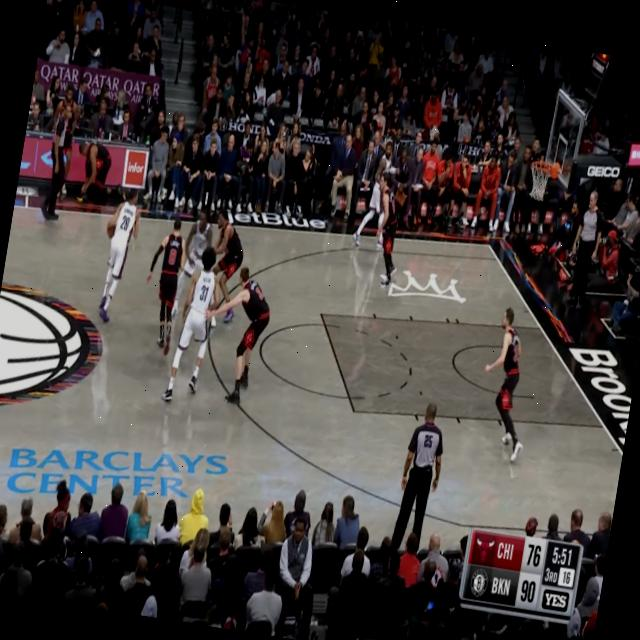no foul: (127, 185, 287, 412)
